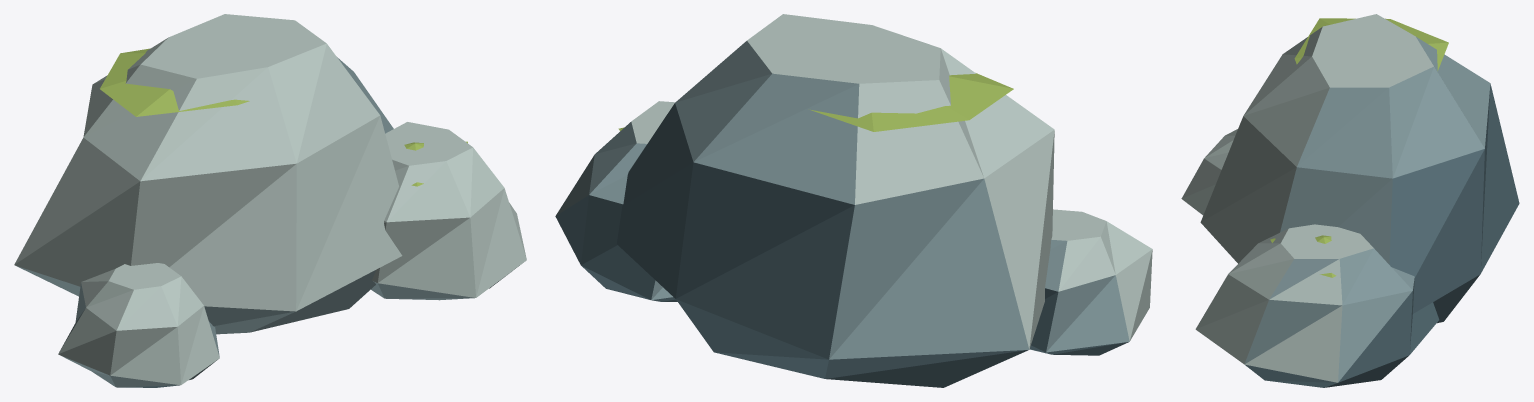
Rendered from PedraMusgo.fbx.
3 renders of one model, left to right at view 1: azimuth 30°, elevation 25°; view 2: azimuth 150°, elevation 25°; view 3: azimuth 270°, elevation 25°, orthographic. The views are drawn at different scales.
Visible parts, largest first — view 1: PedraMusgo_Solido_3, PedraMusgo_Solido_2, PedraMusgo_Folha_5; view 2: PedraMusgo_Solido_2, PedraMusgo_Solido_1, PedraMusgo_Solido_3, PedraMusgo_Folha_5; view 3: PedraMusgo_Solido_3, PedraMusgo_Solido_2, PedraMusgo_Solido_1, PedraMusgo_Folha_5.
Part boxes in pixels (x1,y1,x2,y2): PedraMusgo_Solido_3: (14,14,526,385); PedraMusgo_Solido_2: (15,57,519,387); PedraMusgo_Folha_5: (100,48,467,186); PedraMusgo_Solido_2: (556,41,1129,359); PedraMusgo_Solido_1: (555,103,1128,387); PedraMusgo_Solido_3: (631,14,1152,349); PedraMusgo_Folha_5: (618,73,1013,131); PedraMusgo_Solido_3: (1181,14,1433,382); PedraMusgo_Solido_2: (1244,37,1490,382); PedraMusgo_Solido_1: (1245,83,1519,387); PedraMusgo_Folha_5: (1270,18,1448,277).
Size of the model in its own units: 581 by 290 by 379.
